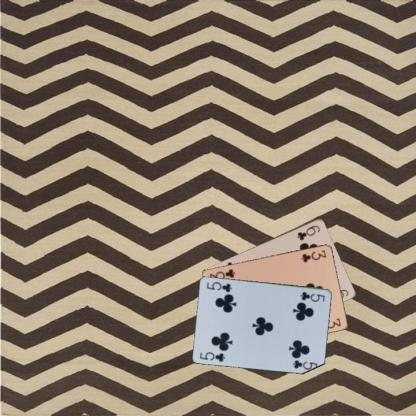3c: (298, 247, 328, 264)
5c: (298, 289, 326, 303), (198, 349, 226, 363)
6c: (295, 223, 321, 242)
